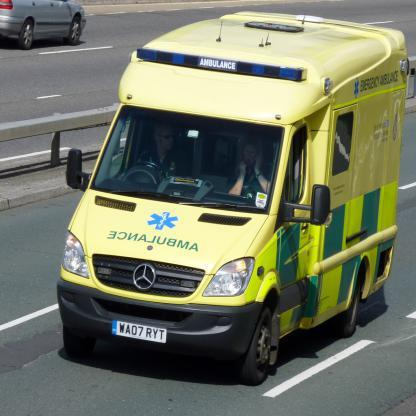Ambulance - v1 Ambulance last generate: (56, 12, 410, 384)
